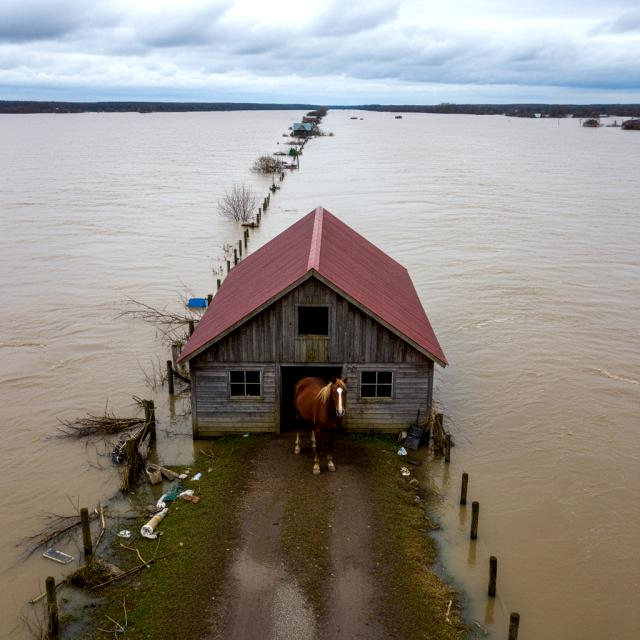horse: (289, 368, 356, 476)
